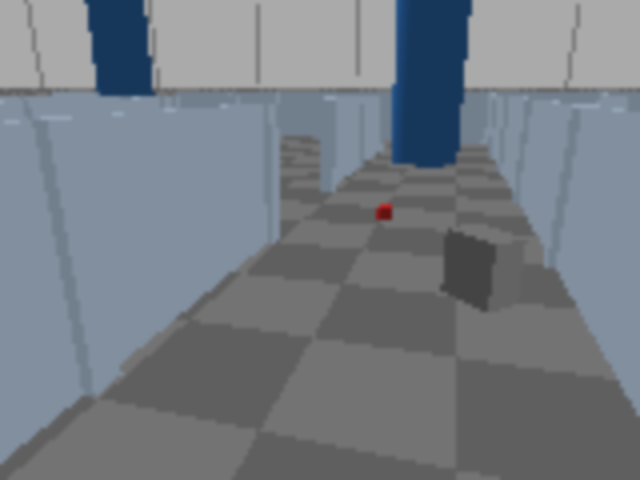obstacle: (441, 223, 527, 314)
